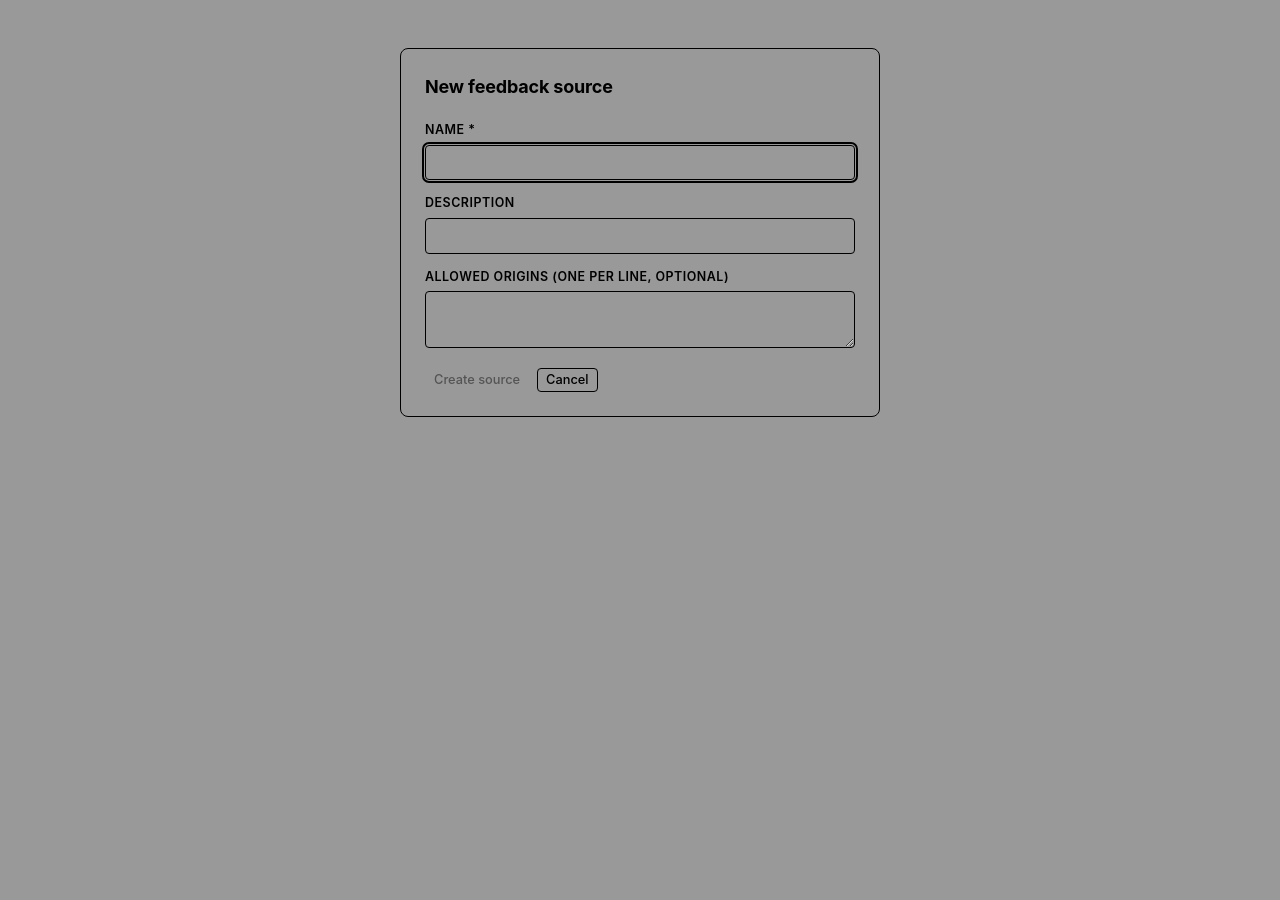
Test: NewSourceModal › disables submit until a name is entered
This screenshot has width=1280, height=900.
Expected: the button "Create source" is disabled, [425, 368, 529, 392]
Type "NPS" into the field labelled "Name *" at (640,162), box [425, 144, 855, 180]
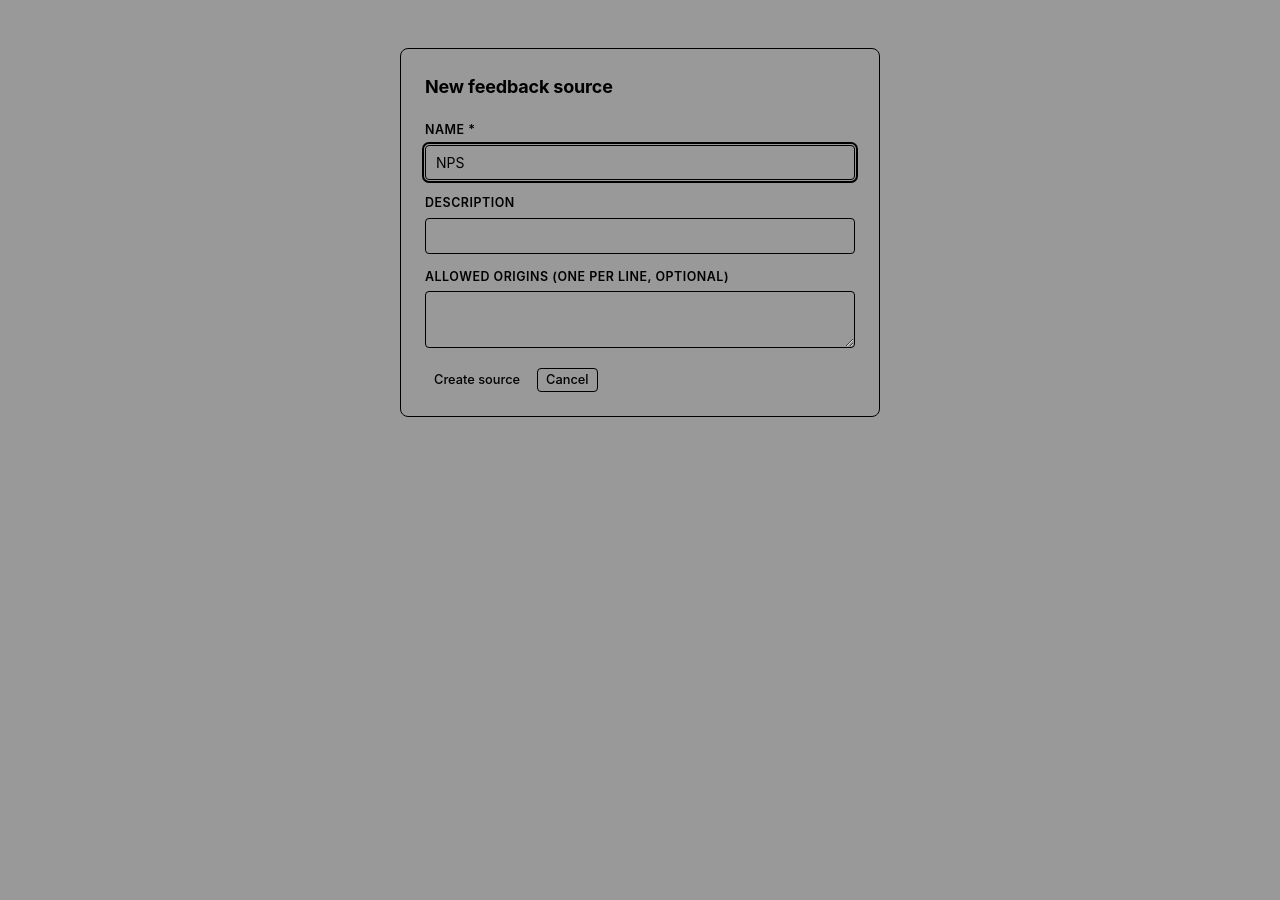
Expected: the button "Create source" is enabled, [425, 368, 529, 392]
